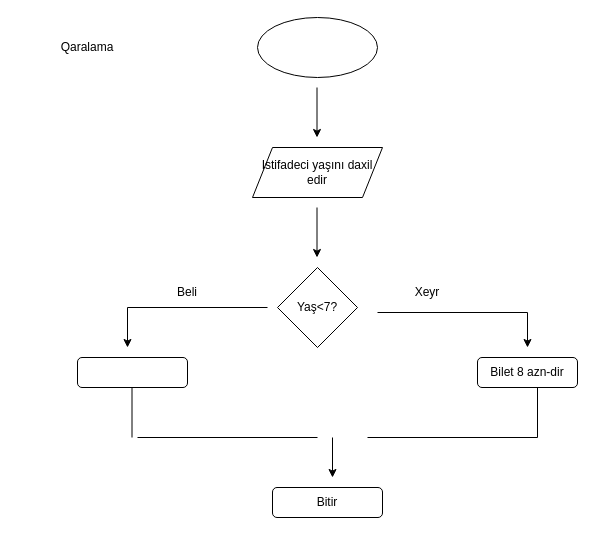
The diagram is 595 pixels wide and 535 high, and some of its shapes have lost their labels. Here are the shapes that lost their labels. From the top down, the box of each, then its label:
(256, 16, 378, 78): Başla
(76, 356, 188, 388): Bilet pulsuzdur
